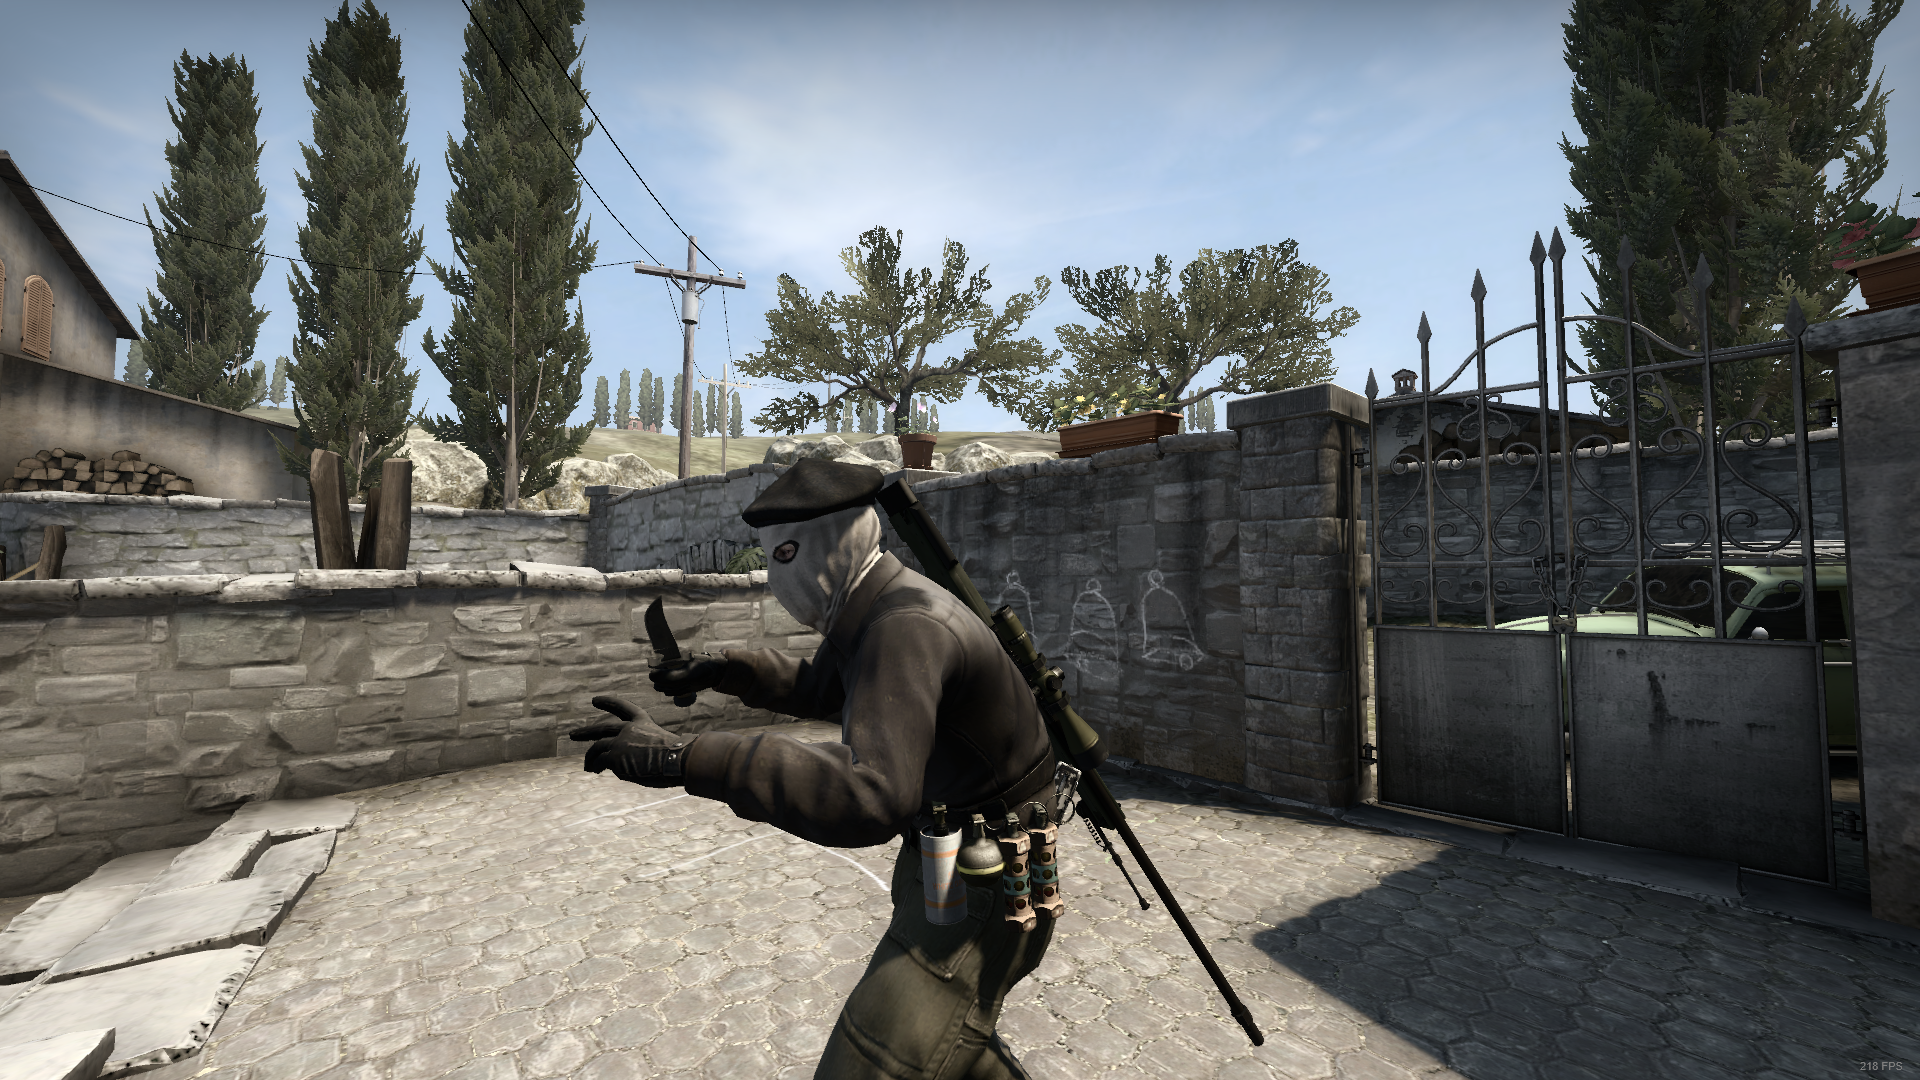t: (570, 458, 1069, 1080)
